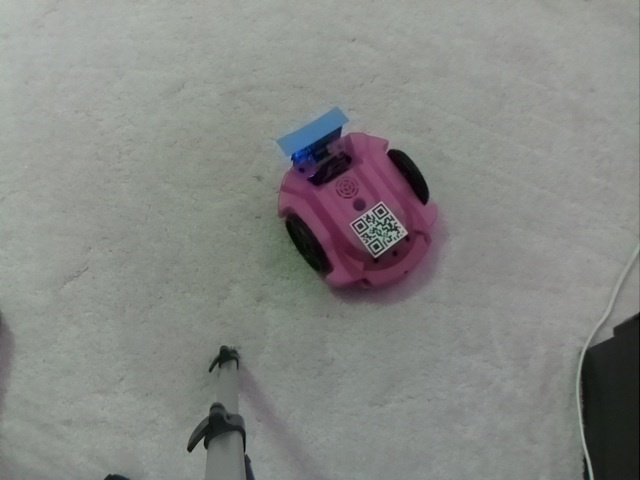chassis: (264, 103, 453, 305)
qr: (346, 195, 412, 263)
